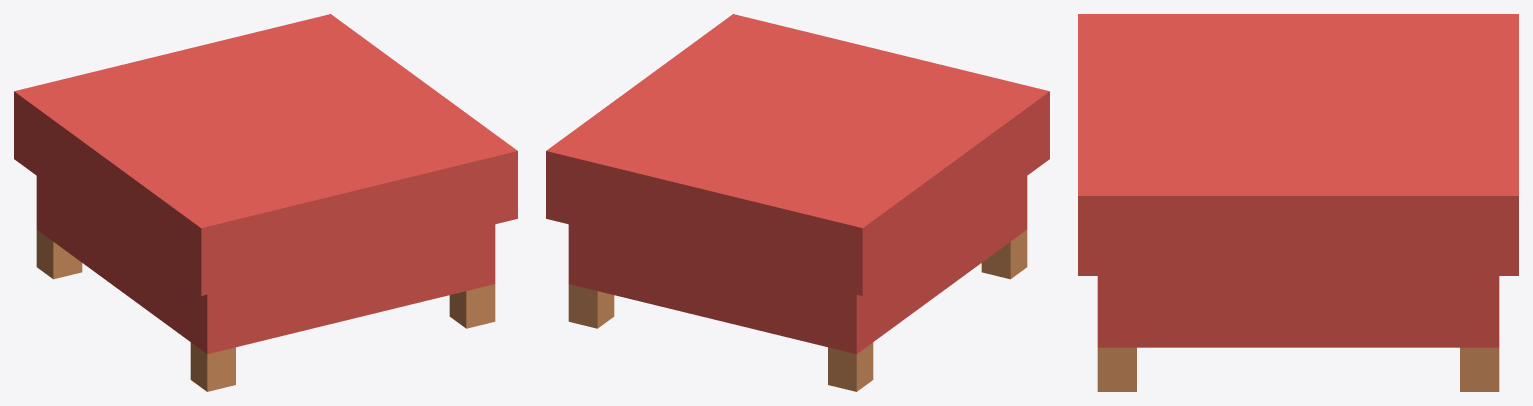
The model's file is Furniture_Lounge_Sofa_Ottoman.glb.
3 views of the same model, side by side, from view 1: azimuth 30°, elevation 25°; view 2: azimuth 150°, elevation 25°; view 3: azimuth 270°, elevation 25° (orthographic). The views are drawn at different scales.
Visible parts, largest first — view 1: loungeSofaOttoman; view 2: loungeSofaOttoman; view 3: loungeSofaOttoman.
Part boxes in pixels (<box>): loungeSofaOttoman: <box>14,14,517,391</box>; loungeSofaOttoman: <box>546,14,1049,391</box>; loungeSofaOttoman: <box>1078,14,1518,391</box>.
Size of the model in its own units: 0.4398 by 0.23 by 0.45.
